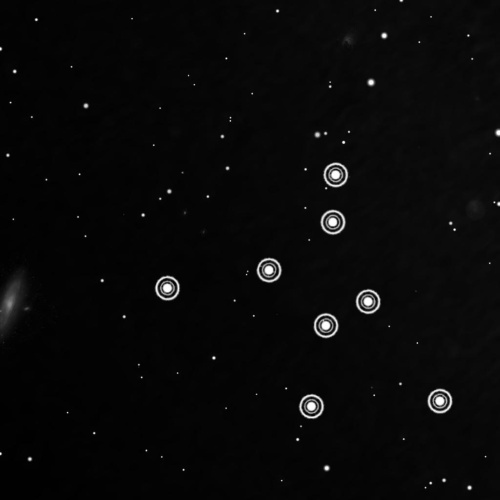hercules: (146, 155, 460, 428)
